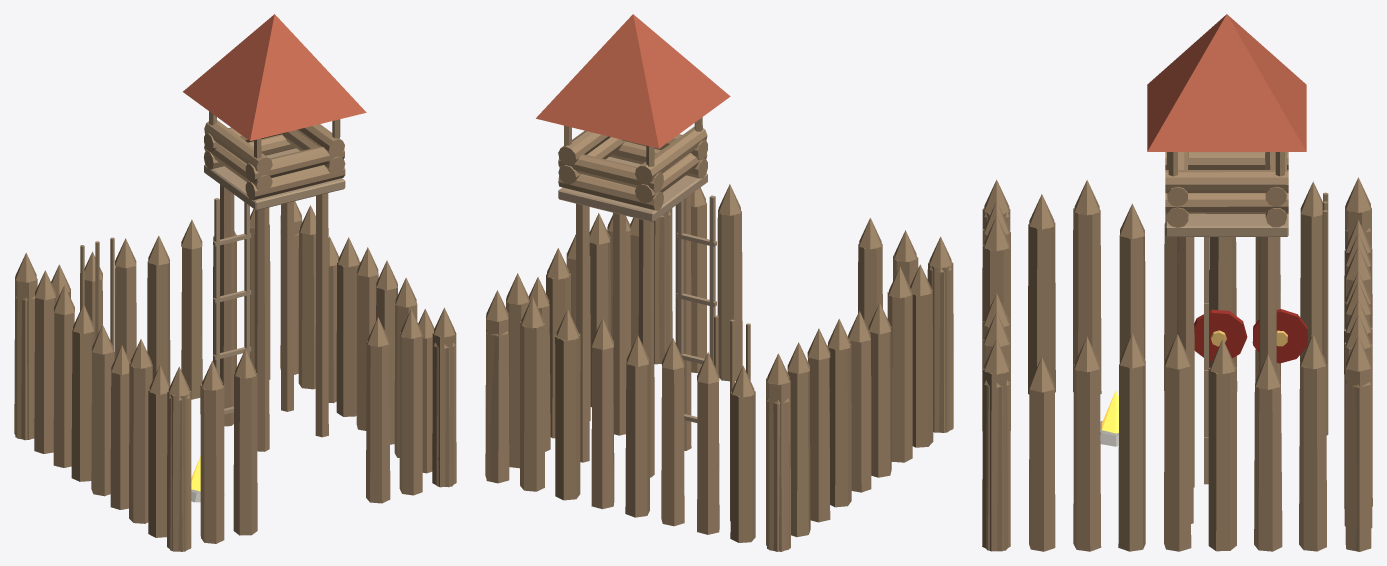
File: bld_zastava.glb
The picture shows the model from 3 angles, left to right: view 1: azimuth 30°, elevation 25°; view 2: azimuth 150°, elevation 25°; view 3: azimuth 270°, elevation 25°; orthographic projection. The views are drawn at different scales.
Visible parts, largest first — view 1: zastava; view 2: zastava; view 3: zastava.
Boxes of the visible parts, <box> form: zastava: <box>14,14,456,551</box>; zastava: <box>485,14,953,551</box>; zastava: <box>982,14,1372,551</box>.
Bounding box in the file's own units: 0.9513 × 1.32 × 0.9504.
